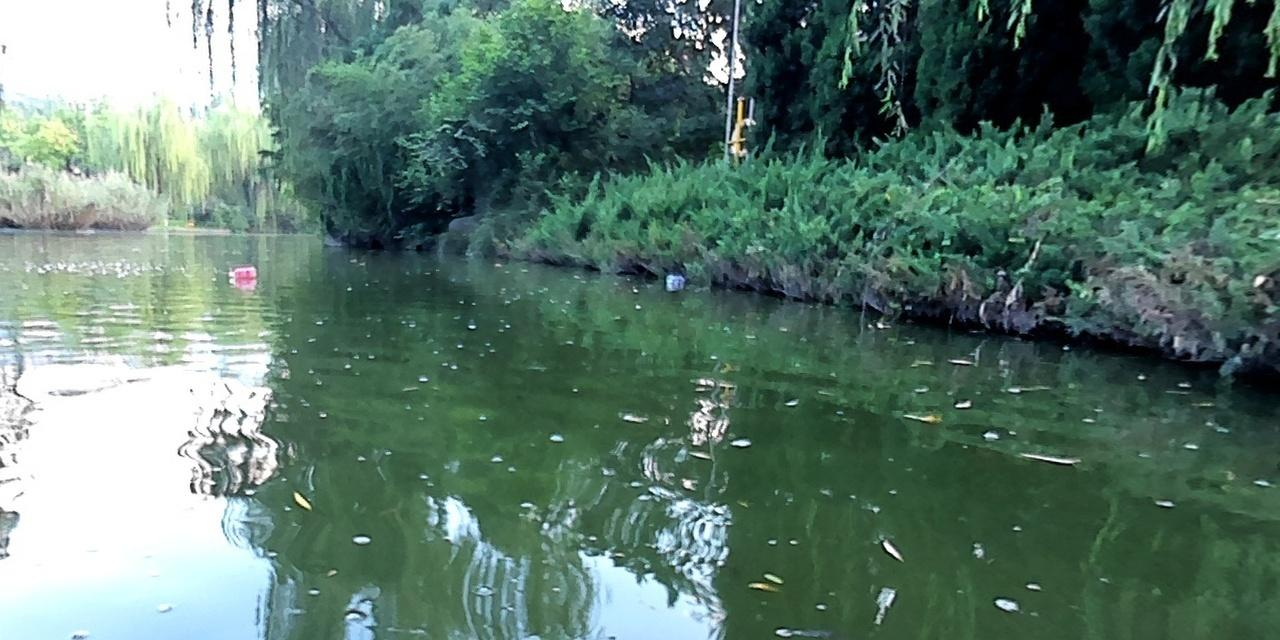bottle: (227, 265, 258, 281), (664, 273, 687, 288)
